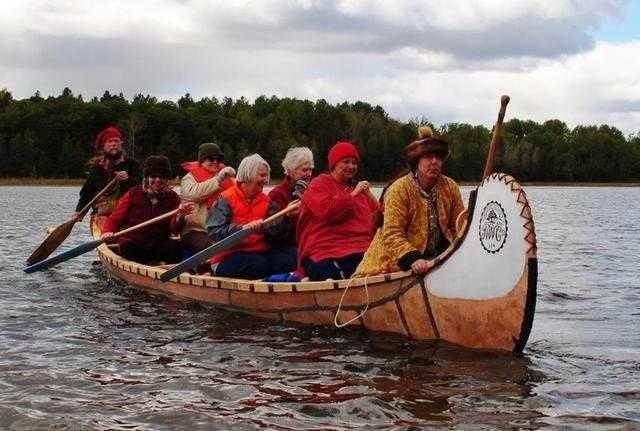kayak: (97, 161, 538, 353)
